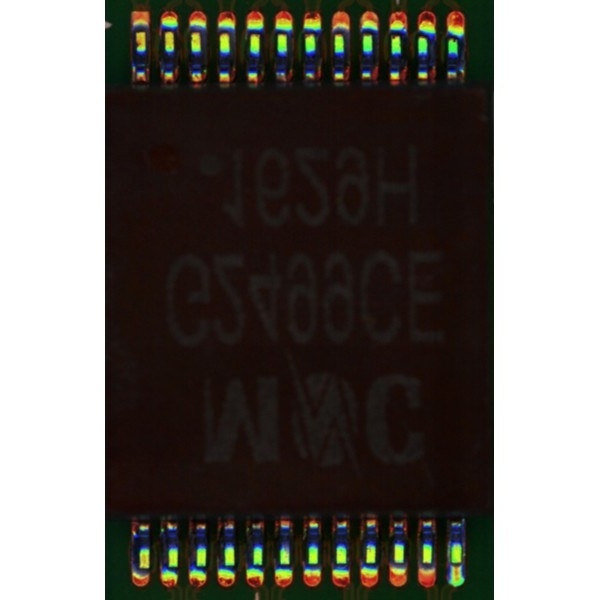Bad_podu: (453, 560, 462, 577)
